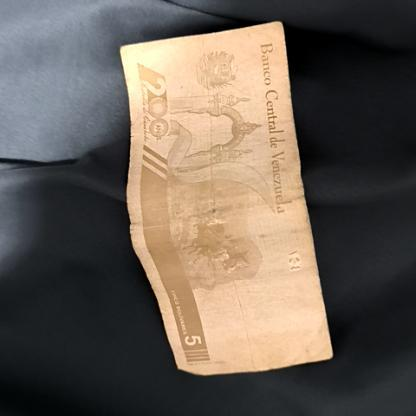five-back-vef: (118, 23, 335, 378)
